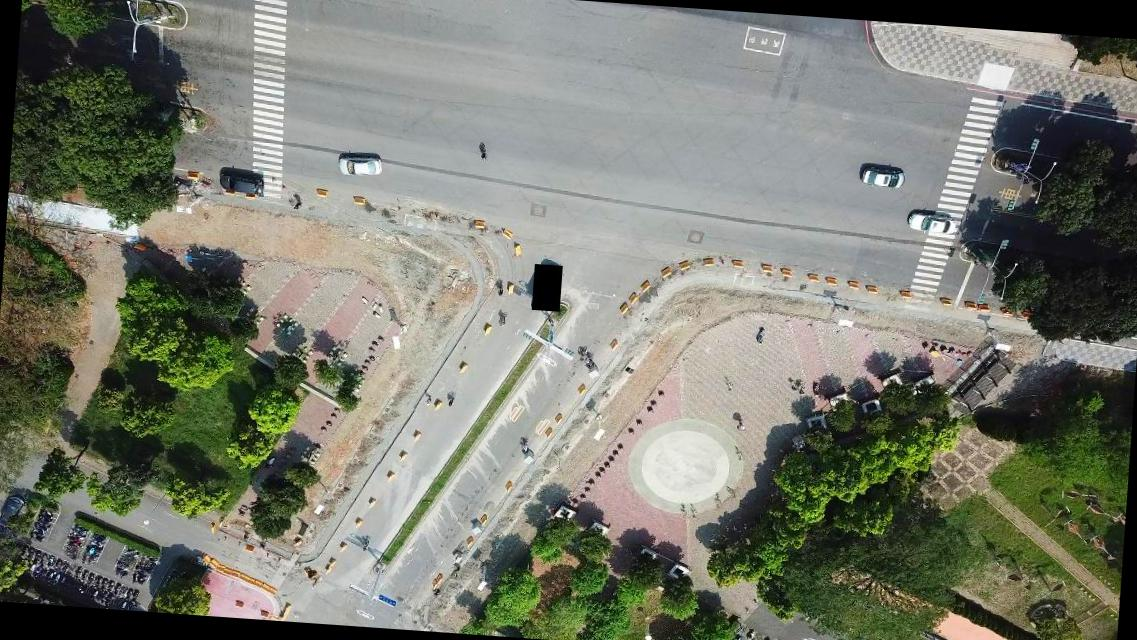vehicle: (856, 163, 906, 192), (218, 170, 264, 198), (905, 210, 954, 236), (336, 152, 382, 178), (0, 491, 27, 531)
